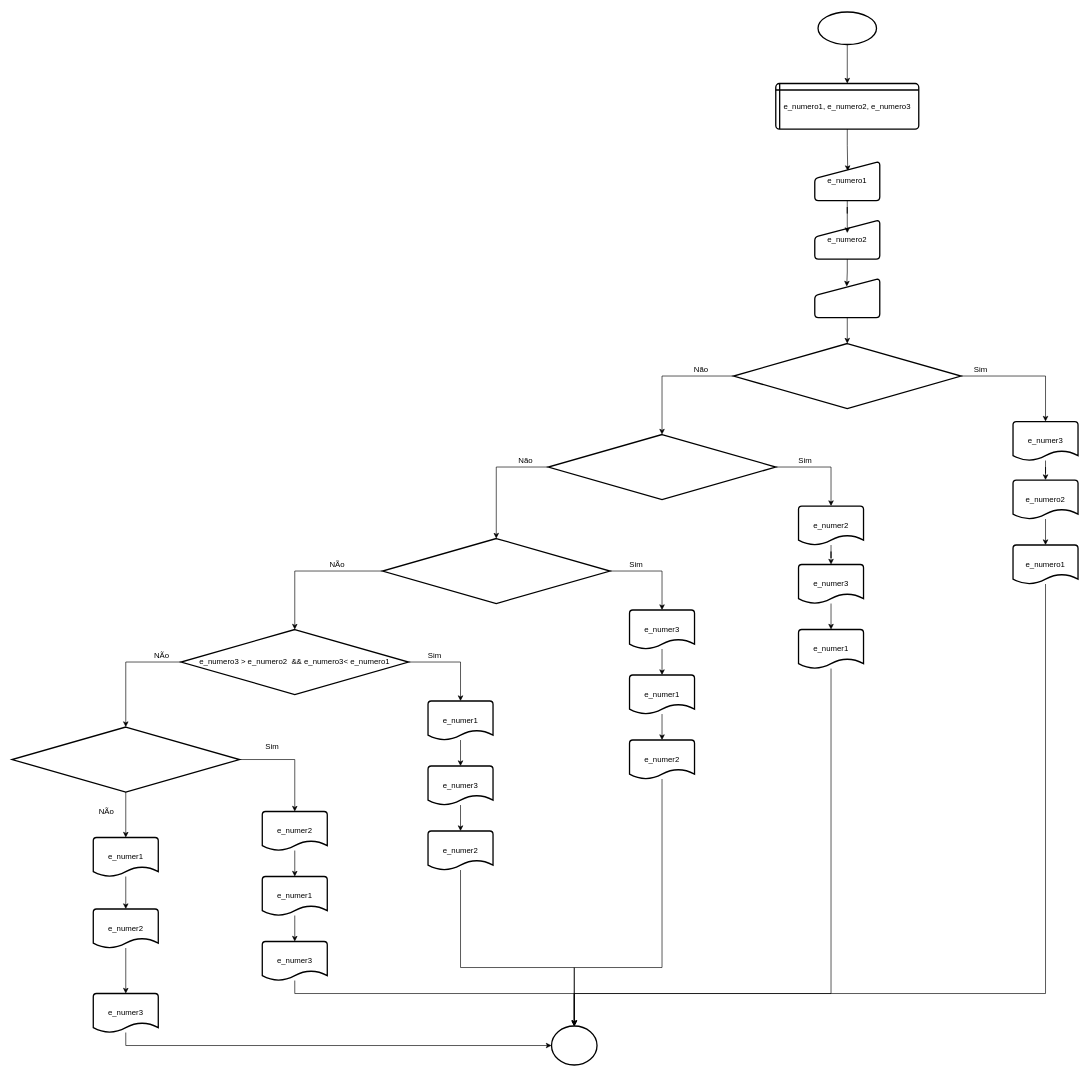
This 1089x1076 diagram has some shape labels left out. Each missing label, with the box of its shape:
e_numero1 > e_numero2 && e_numero1 < e_numero3: (382, 538, 610, 604)
e_numero1 > e_numero3 && e_numero1< e_numero2: (11, 726, 240, 792)
e_numero2 > e_numero1 && e_numero2 < e_numero3: (733, 343, 961, 409)
e_numero3: (814, 278, 880, 318)
e_numero3 > e_numero1 && e_numero3 < e_numero2: (547, 434, 776, 500)
Fim: (551, 1025, 597, 1065)
Inicio: (817, 11, 877, 45)
